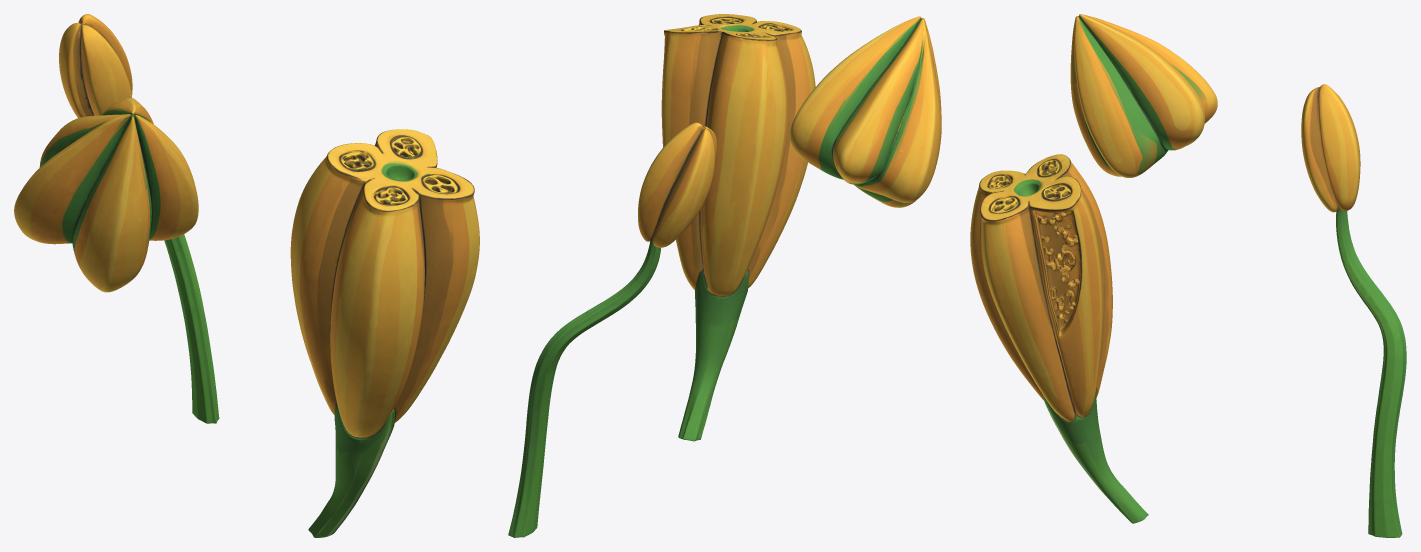
File: Anther and Pollen.glb
3 renders of one model, left to right at view 1: azimuth 30°, elevation 25°; view 2: azimuth 150°, elevation 25°; view 3: azimuth 270°, elevation 25°, orthographic. The views are drawn at different scales.
Parts seen in each view (by area): view 1: tripo_node_2231e205-f352-461e-b48e-de80f0e94509; view 2: tripo_node_2231e205-f352-461e-b48e-de80f0e94509; view 3: tripo_node_2231e205-f352-461e-b48e-de80f0e94509.
Part boxes in pixels (bbox=[...]): tripo_node_2231e205-f352-461e-b48e-de80f0e94509: bbox=[14, 14, 479, 537]; tripo_node_2231e205-f352-461e-b48e-de80f0e94509: bbox=[508, 14, 941, 537]; tripo_node_2231e205-f352-461e-b48e-de80f0e94509: bbox=[970, 14, 1406, 537].
Bounding box in the file's own units: 0.7567 × 1 × 0.9507.
1 material, 1 textured.
